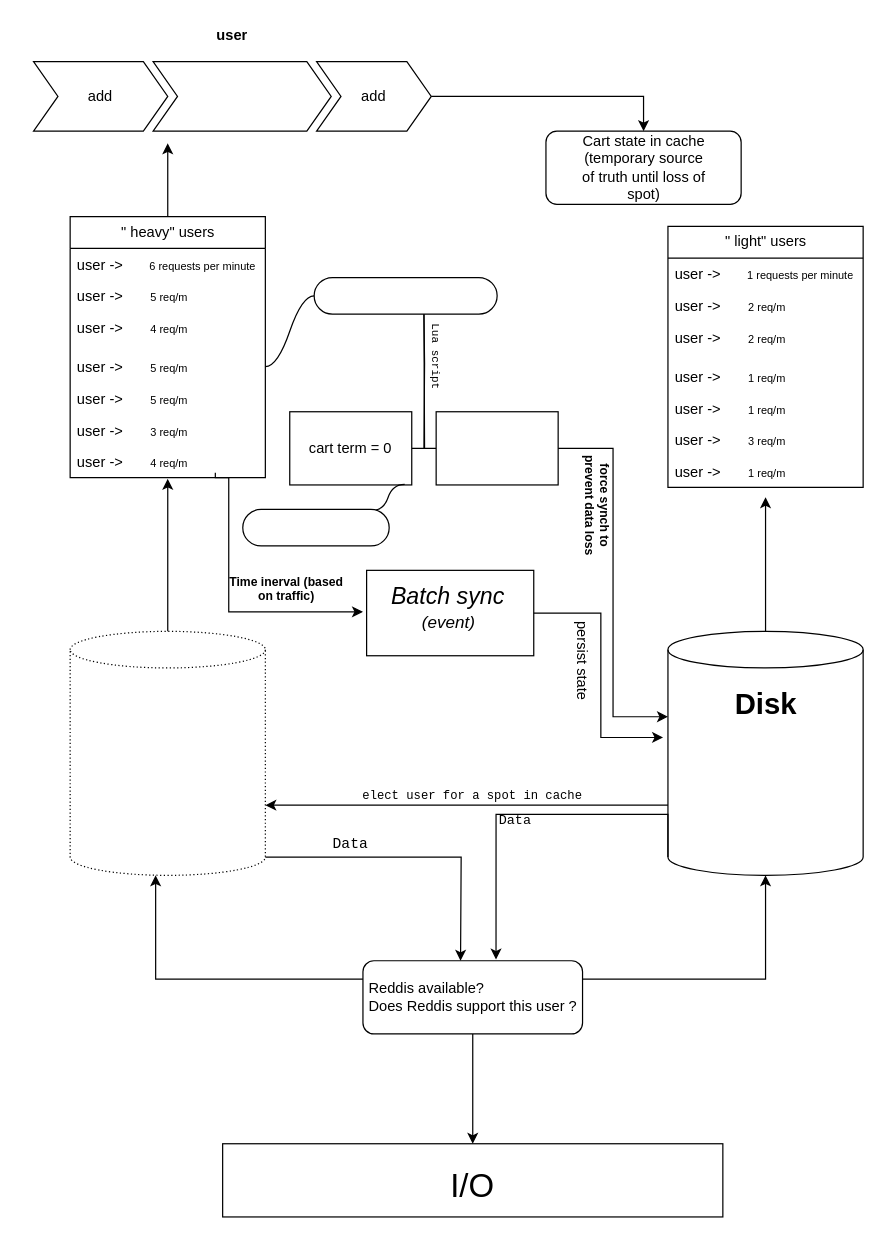
The diagram is 885 pixels wide and 1238 high, and some of its shapes have lost their labels. The centre of each missing label's shape, as x and y in pixels:
(cart interactions): point (241, 95)
cart term > 0: point (496, 448)
Ignore/Discard: point (315, 527)
LRU (eviction policy): point (405, 295)
Redis: point (167, 752)
